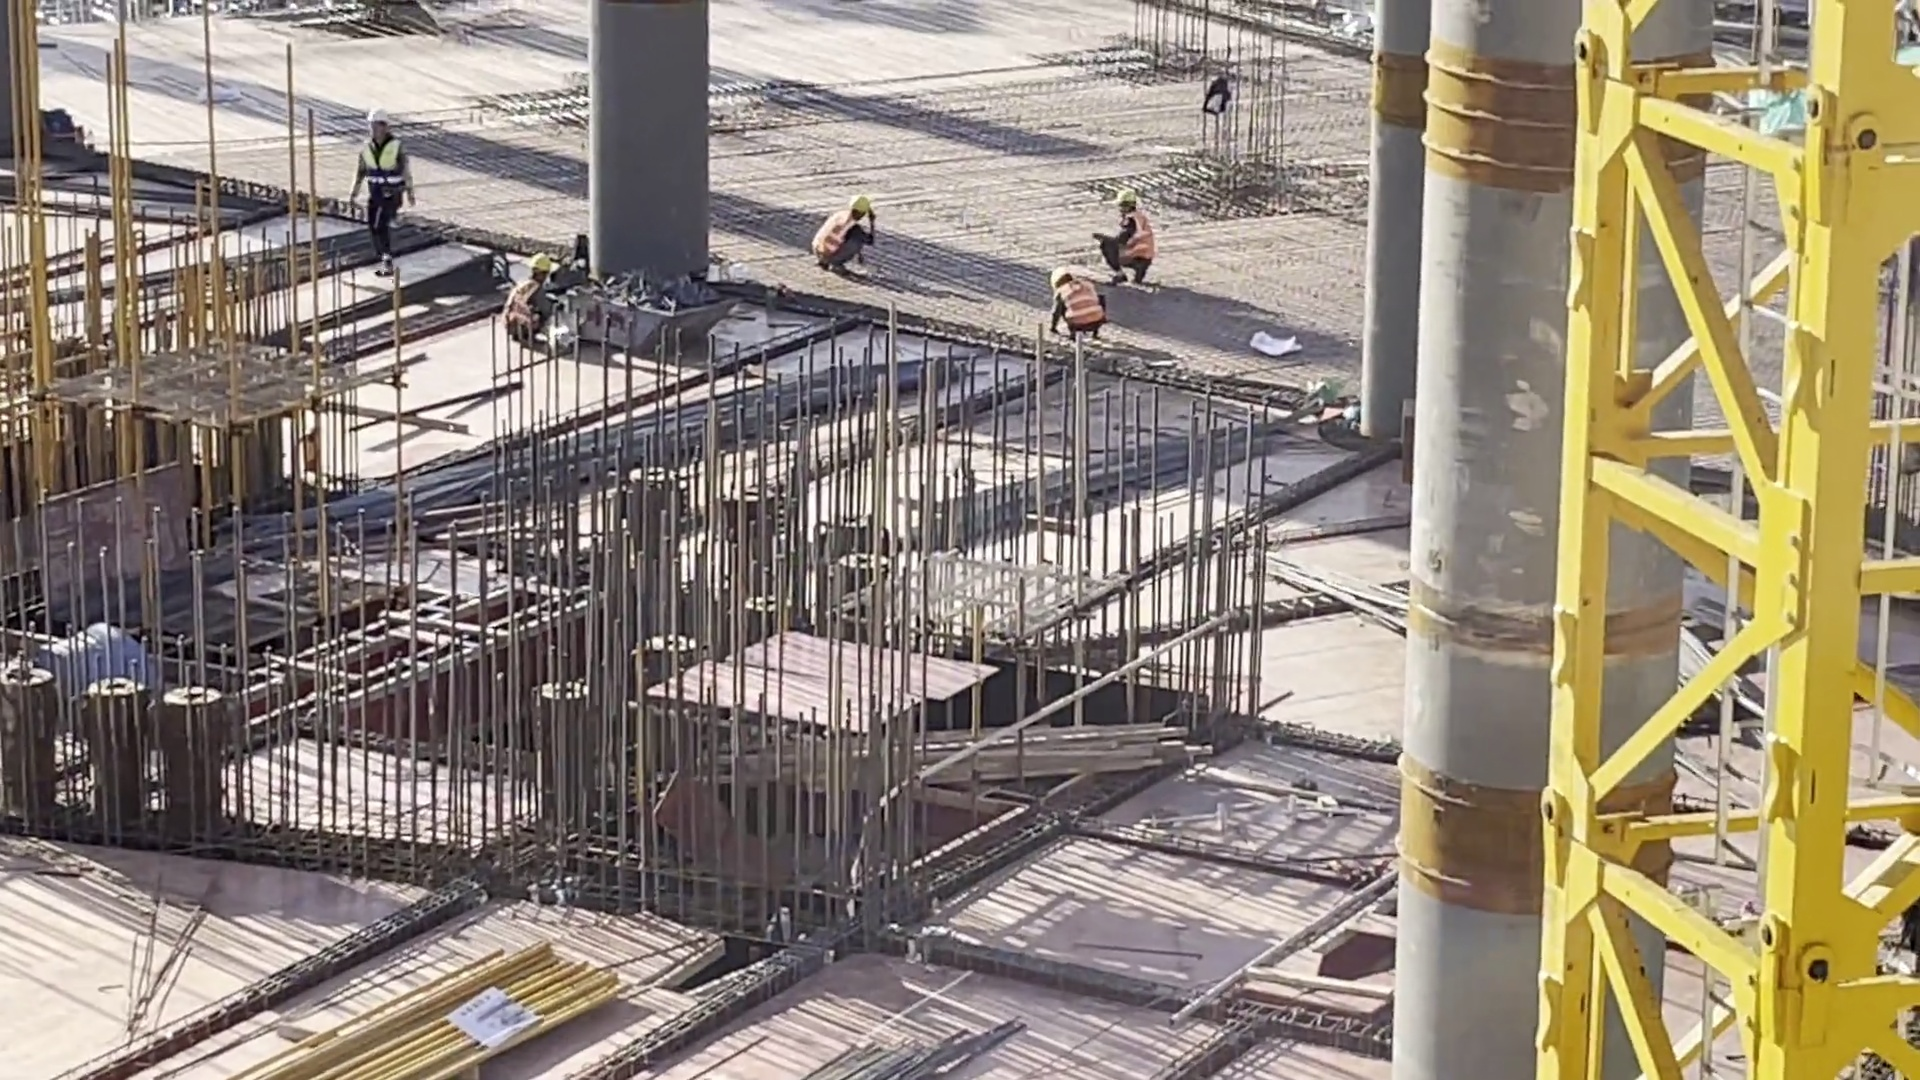helmet: (1113, 182, 1141, 211), (846, 187, 870, 220), (1048, 256, 1068, 289), (524, 253, 550, 276), (367, 105, 394, 127)
hopper: (555, 261, 723, 364)
person: (341, 100, 419, 274), (1023, 260, 1108, 367), (810, 178, 881, 283), (1093, 185, 1163, 290), (511, 239, 555, 350)
vest: (505, 272, 550, 335), (809, 205, 856, 257), (1115, 208, 1152, 268), (361, 145, 401, 193), (1061, 282, 1102, 323)
